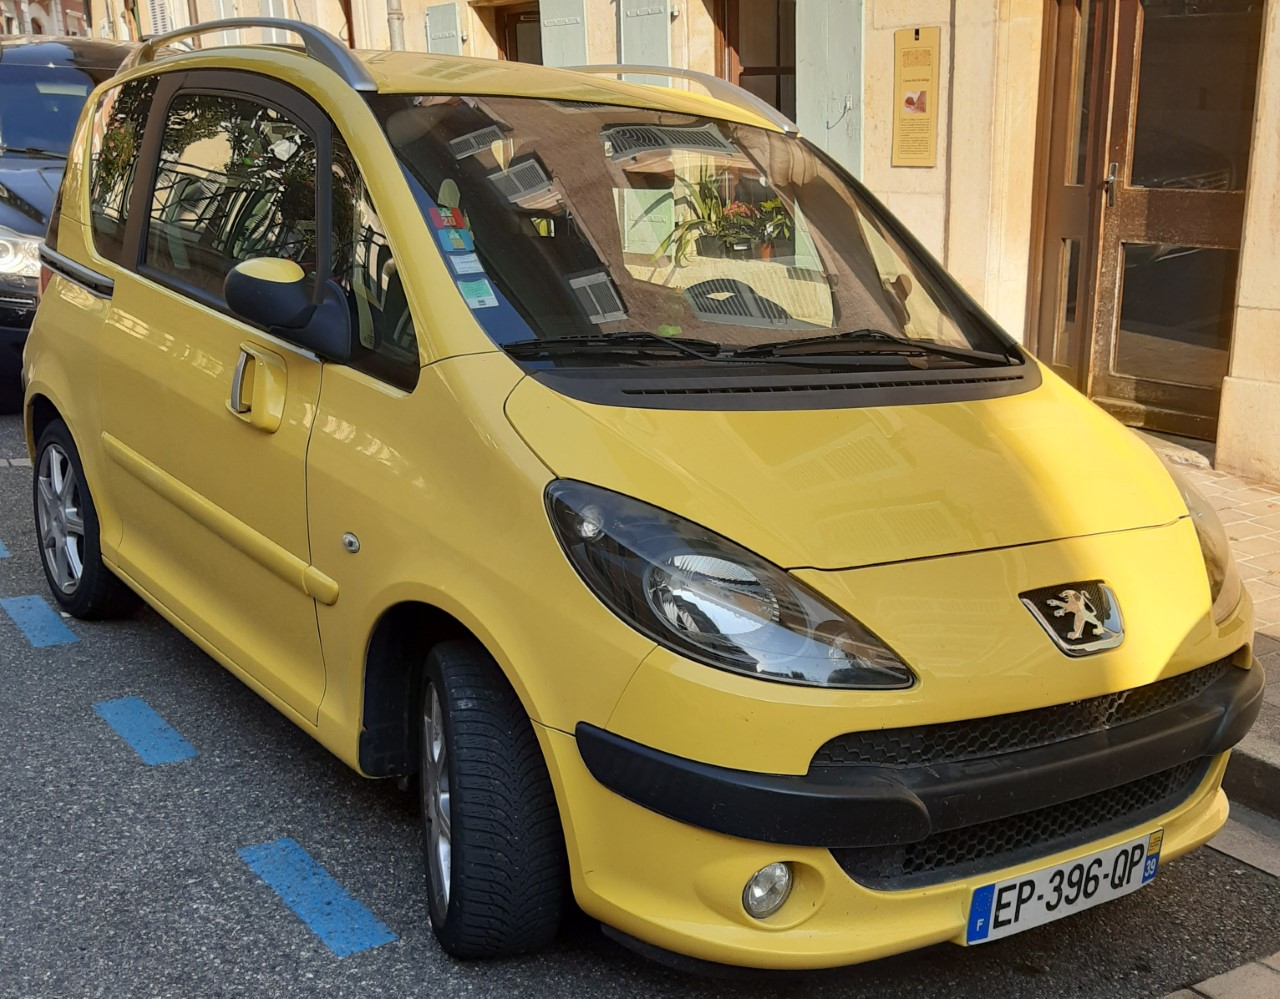licence plate: (963, 821, 1170, 950)
